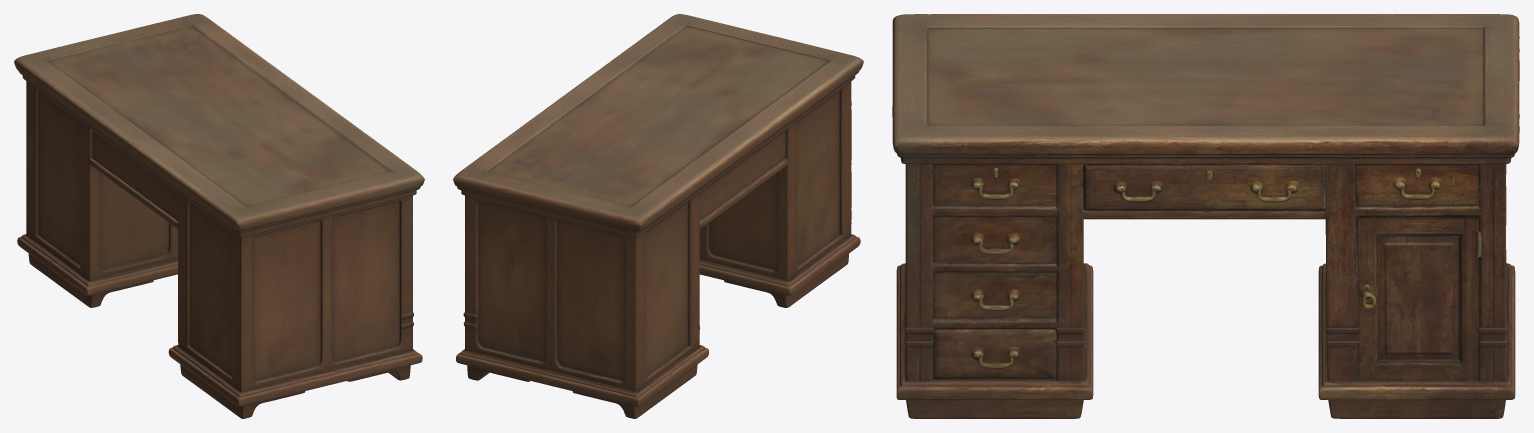
File: bureau-compressed.glb
The picture shows the model from 3 angles, left to right: view 1: azimuth 30°, elevation 25°; view 2: azimuth 150°, elevation 25°; view 3: azimuth 270°, elevation 25°; orthographic projection. The views are drawn at different scales.
Visible parts, largest first — view 1: tripo_node_d1481dc8-a139-478d-9363-9d98acd4b9d0; view 2: tripo_node_d1481dc8-a139-478d-9363-9d98acd4b9d0; view 3: tripo_node_d1481dc8-a139-478d-9363-9d98acd4b9d0.
Boxes of the visible parts, x1,y1,x2,y2 form: tripo_node_d1481dc8-a139-478d-9363-9d98acd4b9d0: (14, 14, 424, 418); tripo_node_d1481dc8-a139-478d-9363-9d98acd4b9d0: (453, 14, 863, 418); tripo_node_d1481dc8-a139-478d-9363-9d98acd4b9d0: (892, 14, 1519, 418).
Bounding box in the file's own units: 0.4839 × 0.5045 × 1.
1 material, 1 textured.
